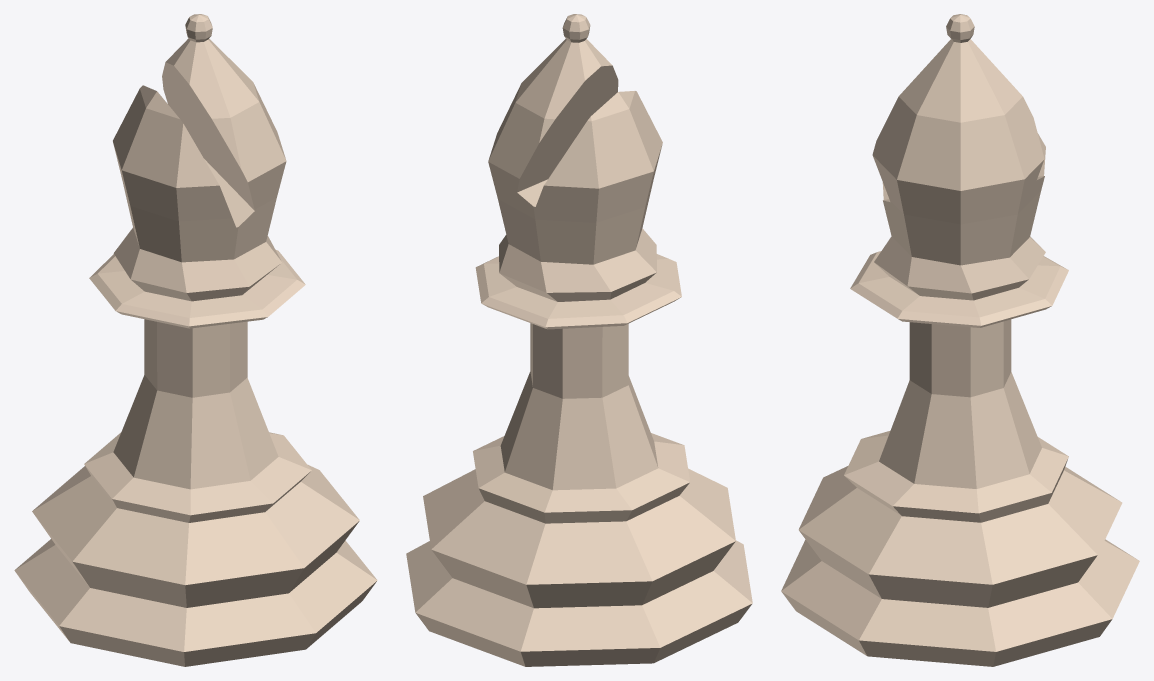
The model's file is Bishop white.fbx.
3 renders of one model, left to right at view 1: azimuth 30°, elevation 25°; view 2: azimuth 150°, elevation 25°; view 3: azimuth 270°, elevation 25°, orthographic.
Parts seen in each view (by area): view 1: Bishop .004; view 2: Bishop .004; view 3: Bishop .004.
Boxes of the visible parts, x1,y1,x2,y2 form: Bishop .004: (14, 14, 377, 666); Bishop .004: (406, 14, 752, 666); Bishop .004: (781, 14, 1139, 666).
Size of the model in its own units: 0.039 by 0.07 by 0.039.
